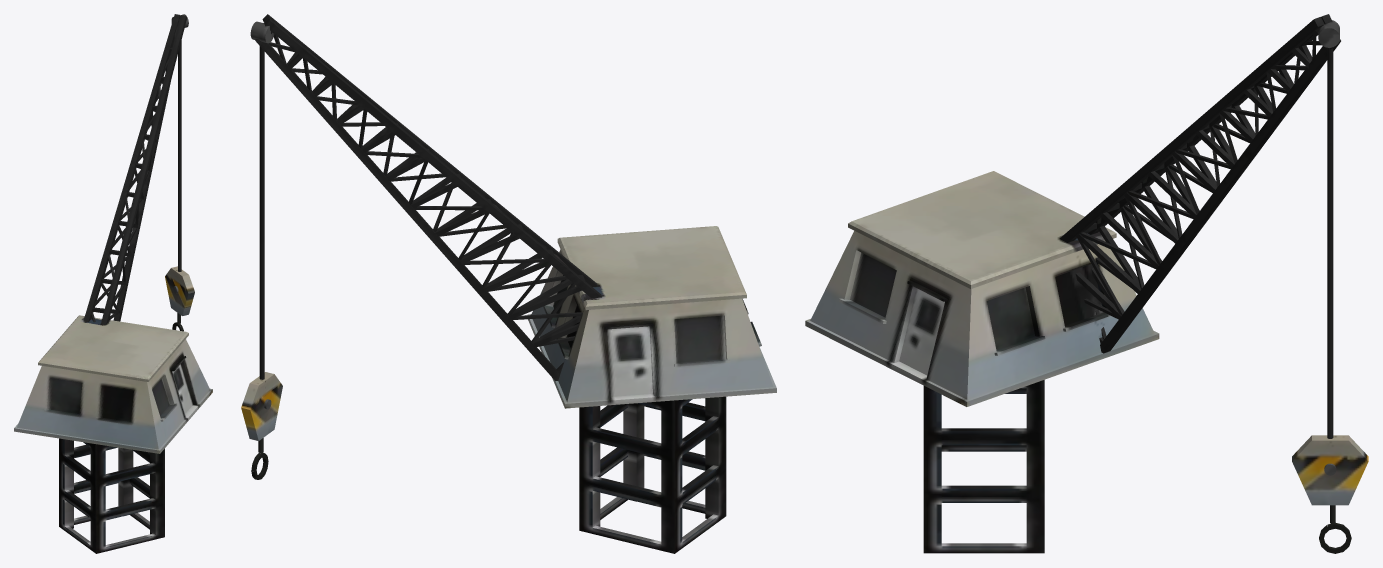
Rendered from crane_cad.glb.
The picture shows the model from 3 angles, left to right: view 1: azimuth 30°, elevation 25°; view 2: azimuth 150°, elevation 25°; view 3: azimuth 270°, elevation 25°; orthographic projection. The views are drawn at different scales.
Parts seen in each view (by area): view 1: Crane; view 2: Crane; view 3: Crane.
Part boxes in pixels (x1,y1,x2,y2): Crane: [14, 14, 212, 553]; Crane: [241, 14, 776, 553]; Crane: [805, 14, 1368, 553].
Size of the model in its own units: 10.3 by 14.34 by 11.33.
1 material, 1 textured.
